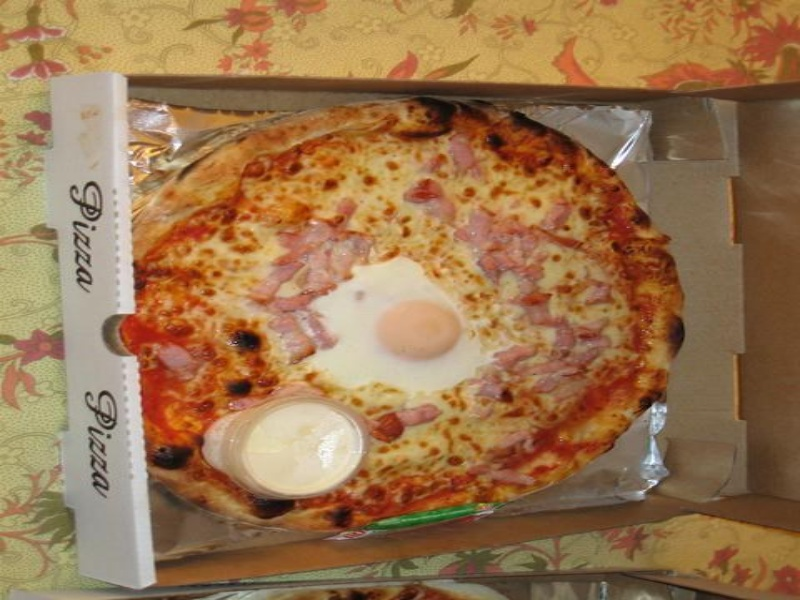oeuf: (367, 282, 473, 370)
